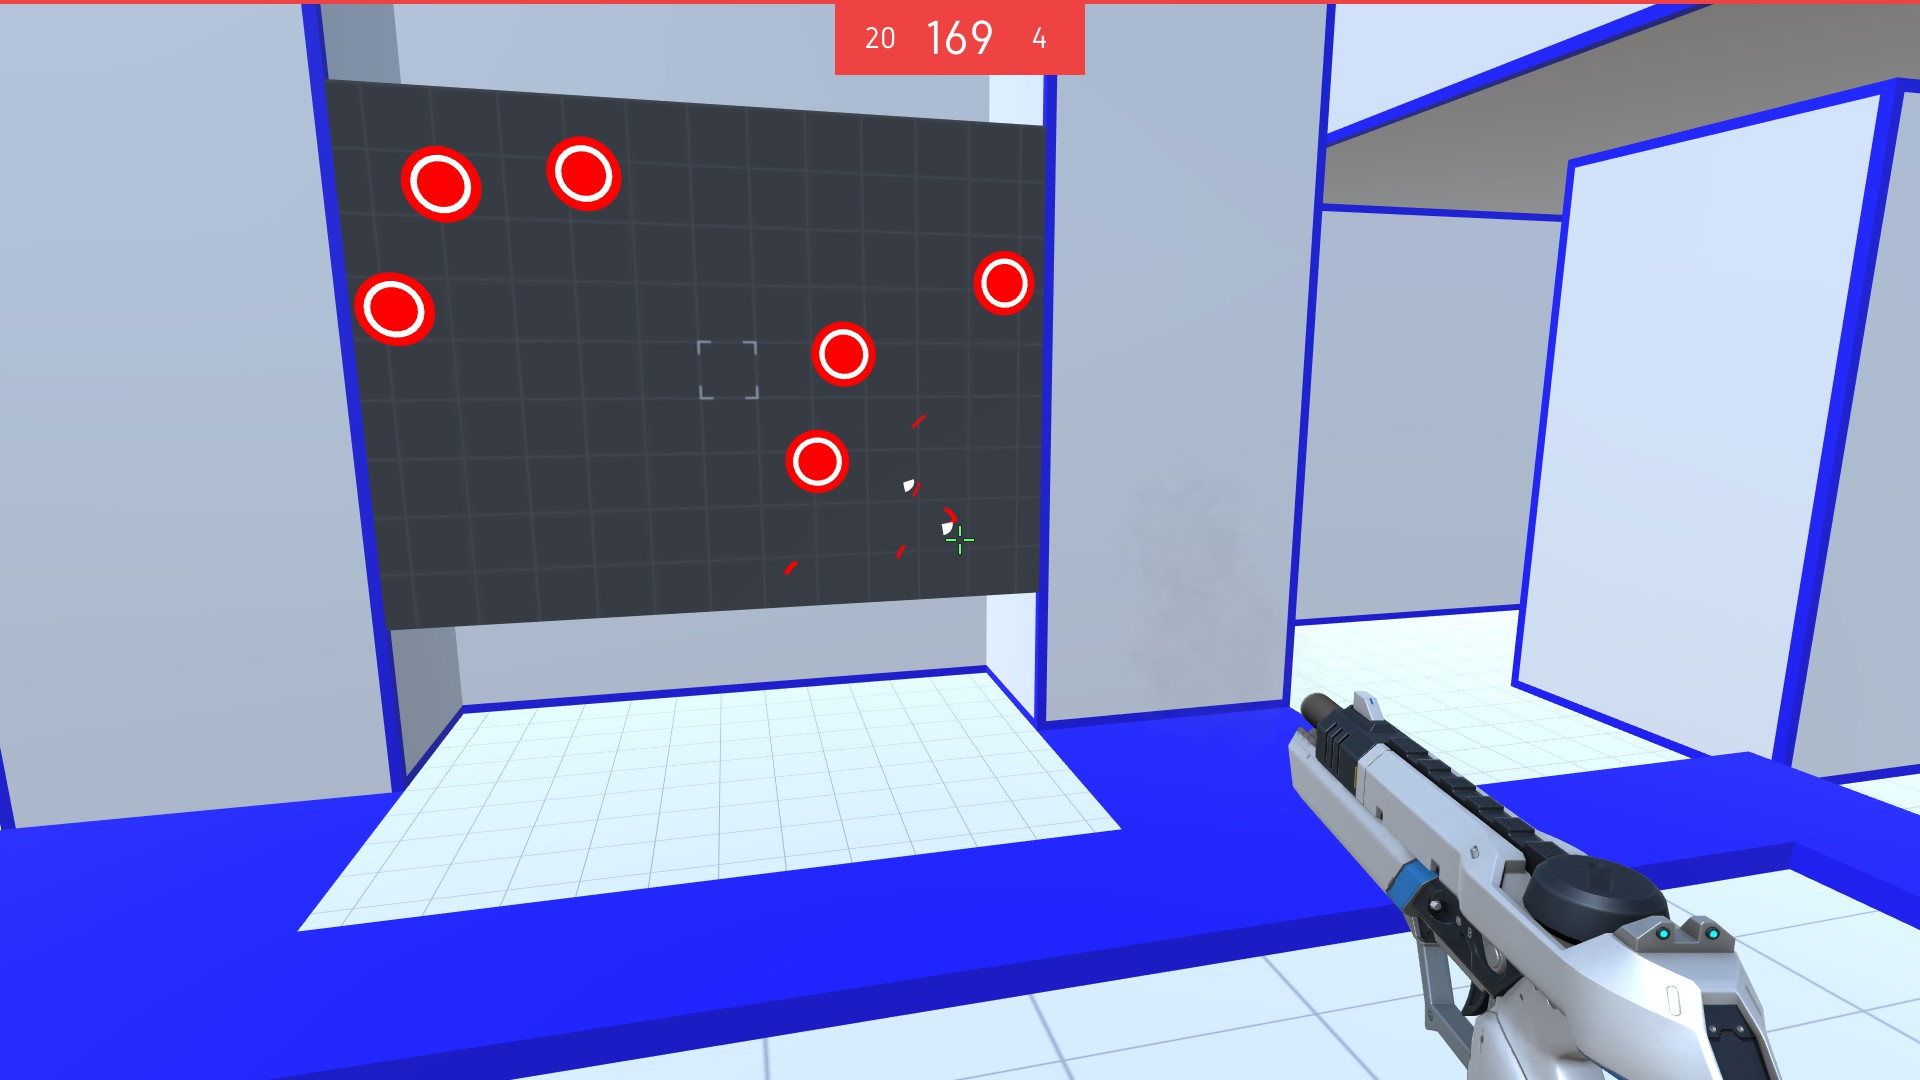target: (400, 141, 489, 232), (349, 266, 439, 353), (545, 133, 629, 218), (967, 249, 1039, 324), (810, 316, 882, 392), (789, 429, 855, 498)
